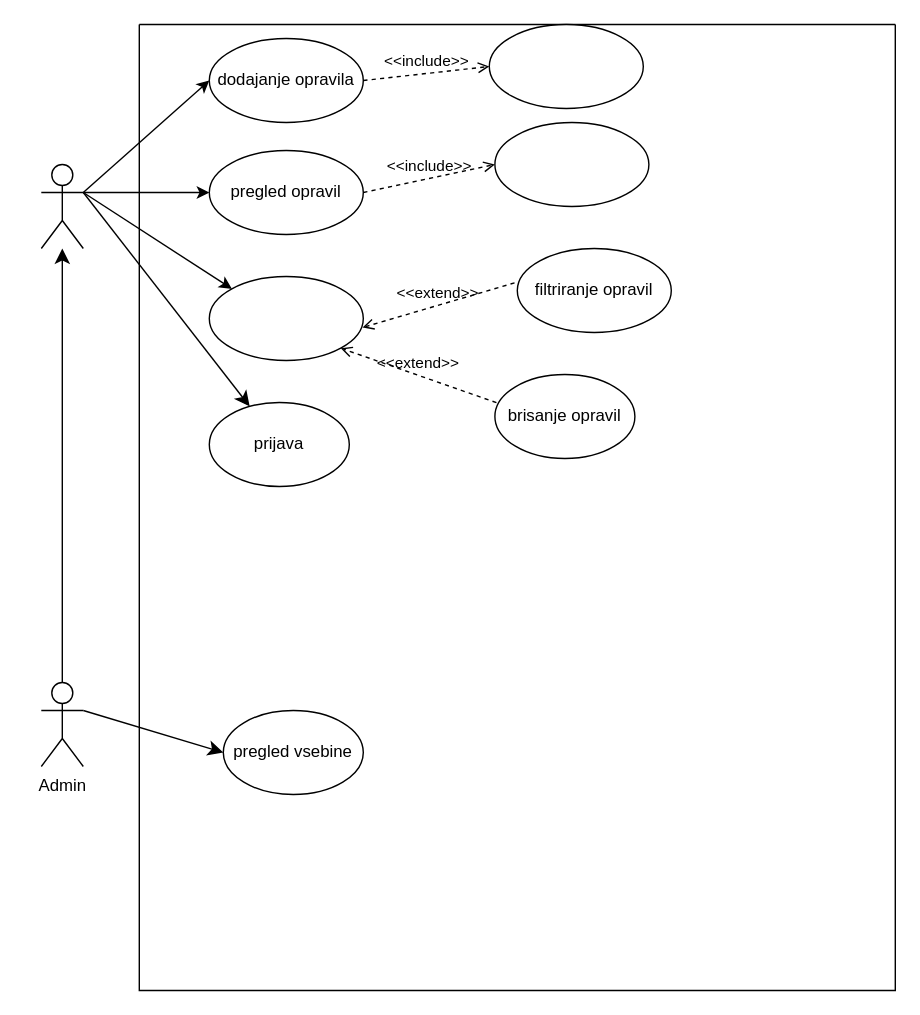
Image size: 920x1015. Some labels were removed from this diagram. Here are the shapes that lost their labels. From the top down, the centre of each, then its label:
point (565, 65): nastavitev opomnikov
point (571, 163): pregled zgodovine
point (61, 205): Uporabnik
point (285, 317): urejanje opravil
